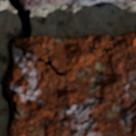brick: (8, 32, 135, 135)
broken_brick: (20, 0, 121, 10), (127, 0, 135, 2)
crack: (0, 0, 69, 134), (120, 0, 127, 3)
